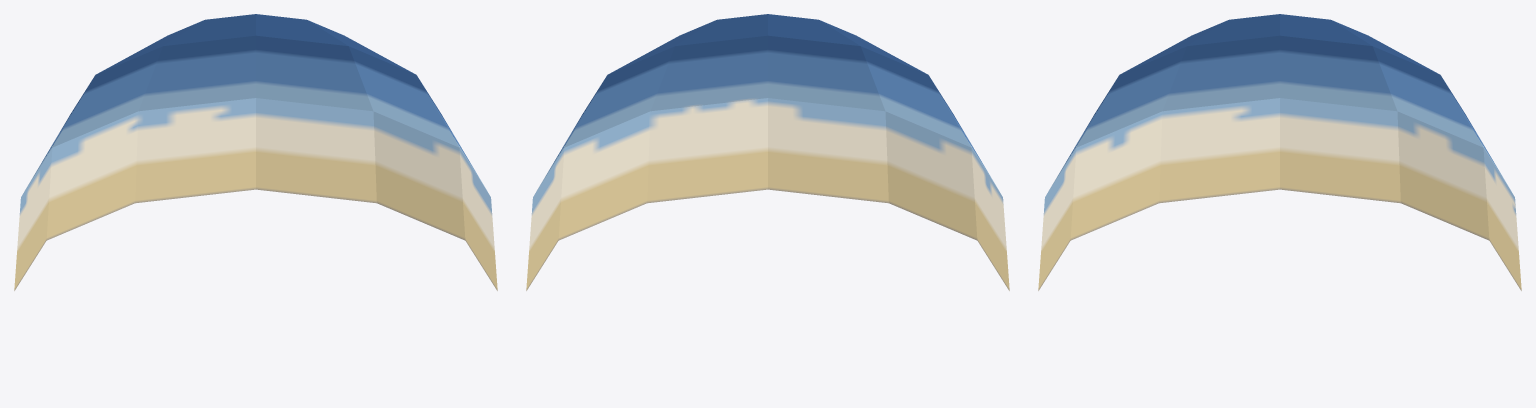
Rendered from sky.backdrop.glb.
3 views of the same model, side by side, from view 1: azimuth 30°, elevation 25°; view 2: azimuth 150°, elevation 25°; view 3: azimuth 270°, elevation 25° (orthographic).
Parts seen in each view (by area): view 1: kit_shell_sky; view 2: kit_shell_sky; view 3: kit_shell_sky.
Part boxes in pixels (bbox=[...]): kit_shell_sky: bbox=[14, 14, 497, 290]; kit_shell_sky: bbox=[526, 14, 1009, 290]; kit_shell_sky: bbox=[1038, 14, 1521, 290].
Bounding box in the file's own units: 791 × 460 × 791.
Materials: 1 (1 with a texture image).
